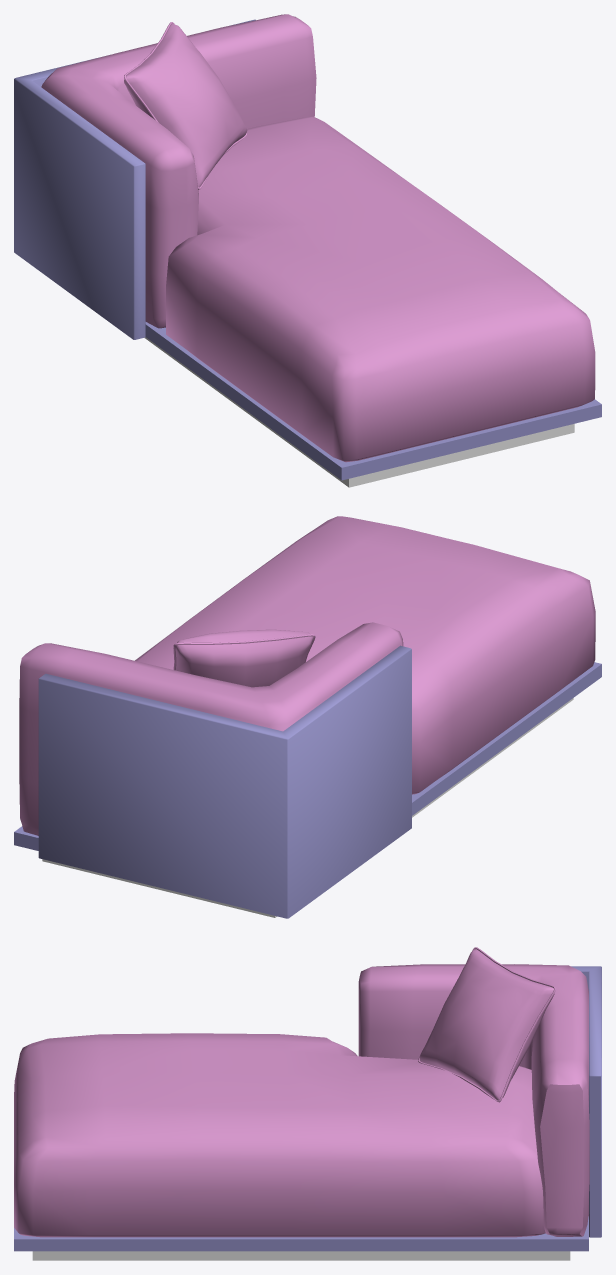
Rendered from MZCCL03L.FBX.
The picture shows the model from 3 angles, top to bottom: view 1: azimuth 30°, elevation 25°; view 2: azimuth 150°, elevation 25°; view 3: azimuth 270°, elevation 25°; orthographic projection. The views are drawn at different scales.
Visible parts, largest first — view 1: MZCCL03L; view 2: MZCCL03L; view 3: MZCCL03L.
Boxes of the visible parts, x1=… form: MZCCL03L: x1=14, y1=14, x2=601, y2=487; MZCCL03L: x1=14, y1=516, x2=601, y2=918; MZCCL03L: x1=14, y1=947, x2=601, y2=1260.
Size of the model in its own units: 229 by 189 by 460.
